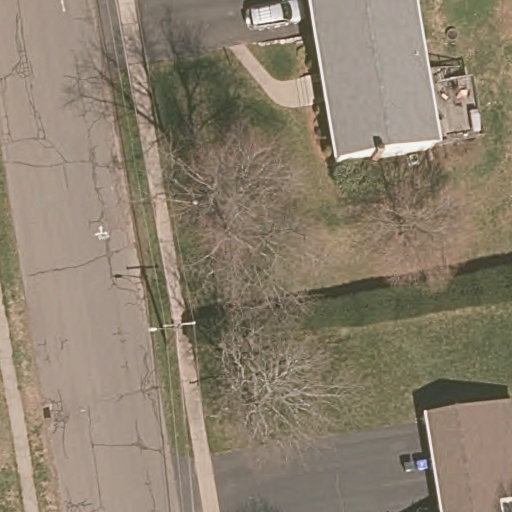DT: (149, 319, 196, 350)
